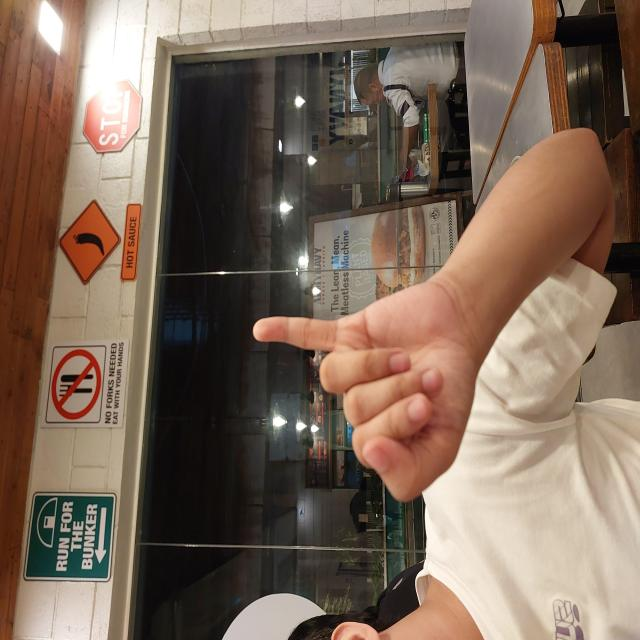I: (136, 251, 358, 477)
